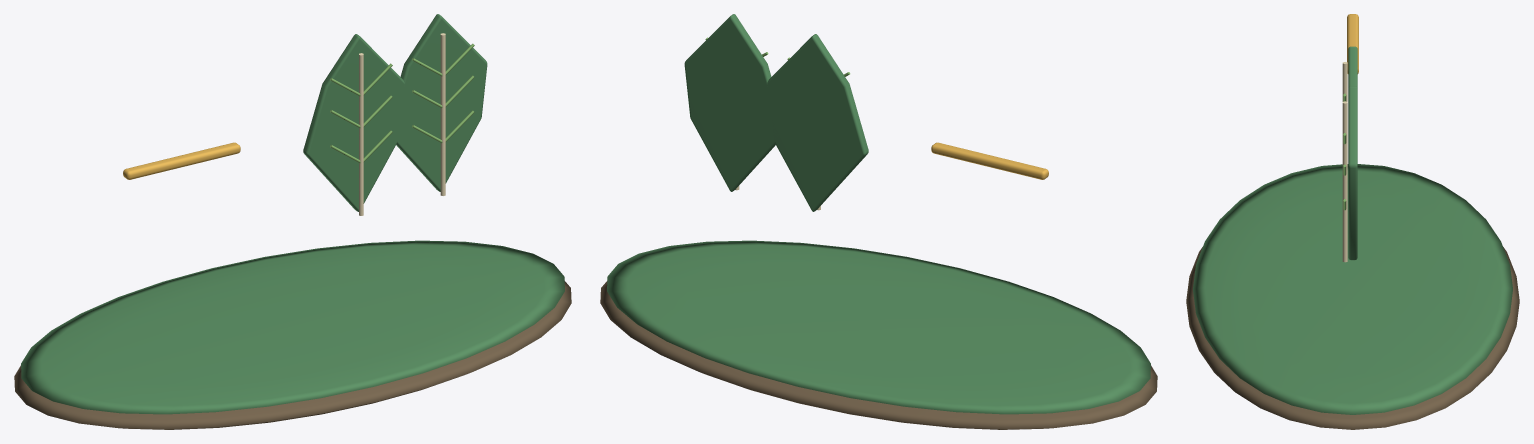
Rendered from one-pattern.glb.
3 renders of one model, left to right at view 1: azimuth 30°, elevation 25°; view 2: azimuth 150°, elevation 25°; view 3: azimuth 270°, elevation 25°, orthographic.
Parts seen in each view (by area): view 1: one-pattern_surface_01, one-pattern_surface_00, one-pattern_surface_03, one-pattern_surface_04, one-pattern_surface_02; view 2: one-pattern_surface_01, one-pattern_surface_00, one-pattern_surface_02; view 3: one-pattern_surface_01, one-pattern_surface_00, one-pattern_surface_03, one-pattern_surface_02.
Part boxes in pixels (bbox=[...]): one-pattern_surface_01: bbox=[21, 14, 564, 414]; one-pattern_surface_00: bbox=[14, 281, 571, 429]; one-pattern_surface_03: bbox=[359, 33, 445, 215]; one-pattern_surface_04: bbox=[330, 43, 474, 163]; one-pattern_surface_02: bbox=[123, 142, 240, 179]; one-pattern_surface_01: bbox=[607, 14, 1150, 414]; one-pattern_surface_00: bbox=[600, 281, 1157, 429]; one-pattern_surface_02: bbox=[931, 142, 1048, 179]; one-pattern_surface_01: bbox=[1193, 46, 1512, 414]; one-pattern_surface_00: bbox=[1186, 247, 1519, 429]; one-pattern_surface_03: bbox=[1342, 62, 1347, 262]; one-pattern_surface_02: bbox=[1347, 14, 1358, 73].
Size of the model in its own units: 4.56 by 2.49 by 2.5.
